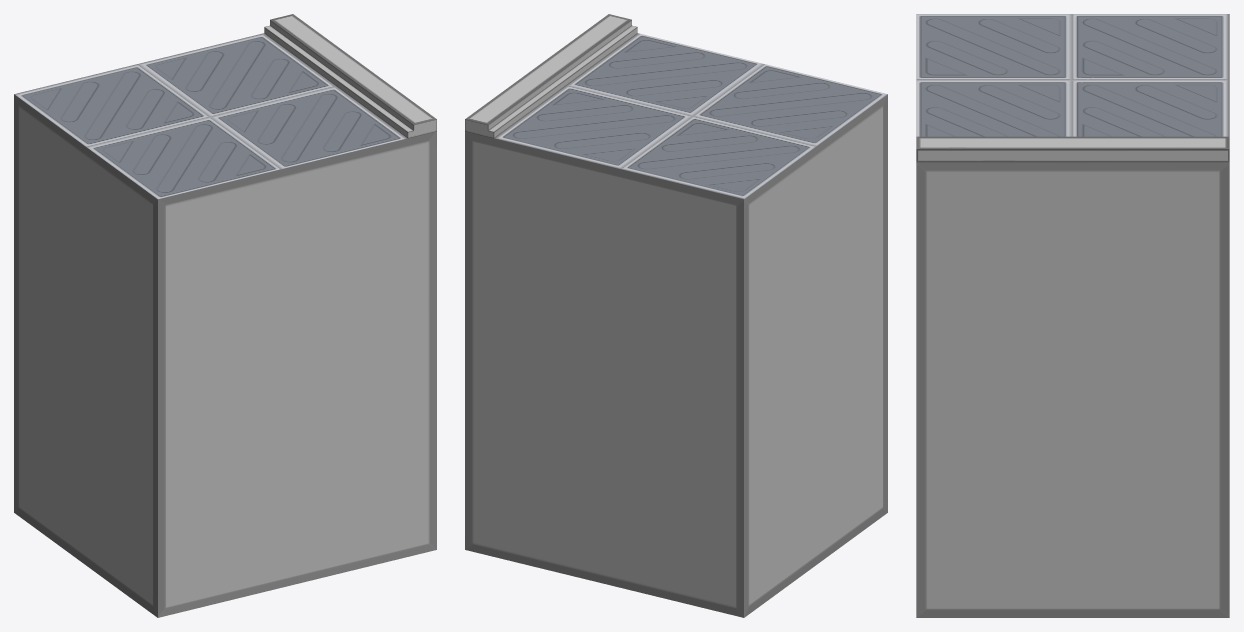
File: Stage_Floor2.fbx
The picture shows the model from 3 angles, left to right: view 1: azimuth 30°, elevation 25°; view 2: azimuth 150°, elevation 25°; view 3: azimuth 270°, elevation 25°; orthographic projection. The views are drawn at different scales.
Visible parts, largest first — view 1: h; view 2: h; view 3: h.
Boxes of the visible parts, bbox=[...] form: h: bbox=[14, 14, 436, 617]; h: bbox=[465, 14, 887, 617]; h: bbox=[916, 14, 1229, 617].
Bounding box in the file's own units: 26.09 × 38.47 × 23.28.
